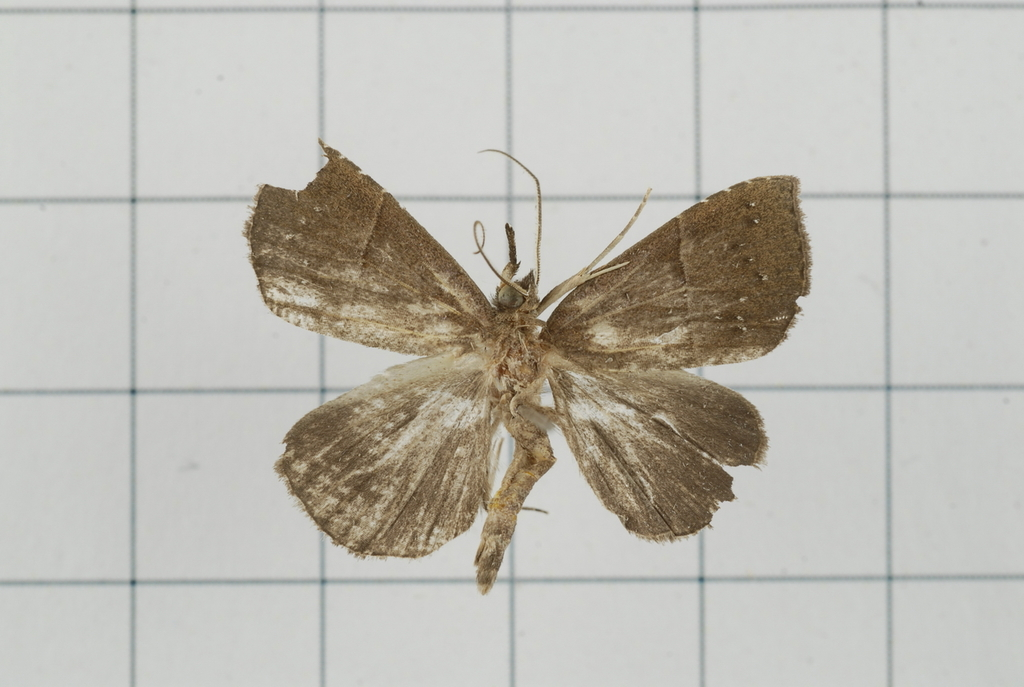Butterfly: (229, 122, 812, 601)
